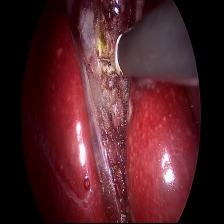Hook: (99, 34, 124, 80)
